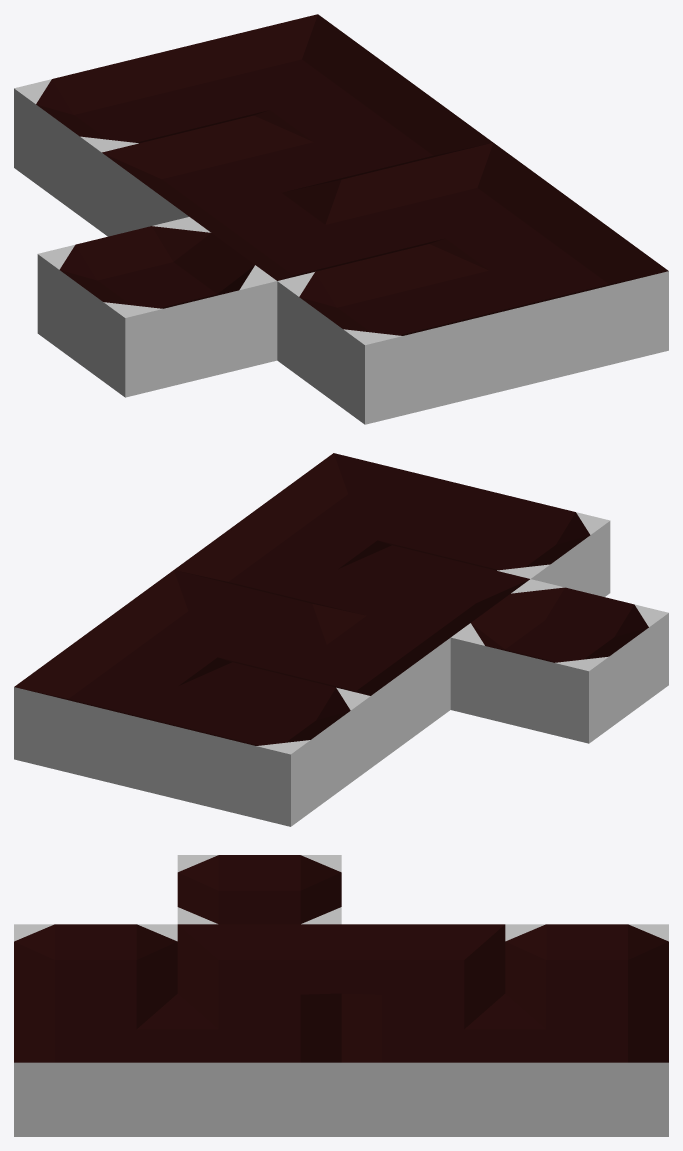
File: 61s_path.obj
3 views of the same model, one above another, from view 1: azimuth 30°, elevation 25°; view 2: azimuth 150°, elevation 25°; view 3: azimuth 270°, elevation 25° (orthographic). The views are drawn at different scales.
Visible parts, largest first — view 1: hole.1.1_Cube.272, ending.2.0_ending.541, corner.3.0_corner.1340, ending.2.3_ending.542, corner.2.2_corner.1339, corner.3.1_corner.1341, corner.3.3_corner.1343, corner.3.2_corner.1342, corner.2.1_corner.1338; view 2: hole.1.1_Cube.272, ending.2.3_ending.542, corner.3.3_corner.1343, corner.3.2_corner.1342, corner.3.0_corner.1340, corner.2.2_corner.1339, ending.2.0_ending.541, corner.2.1_corner.1338, corner.3.1_corner.1341; view 3: corner.3.1_corner.1341, corner.3.2_corner.1342, corner.3.0_corner.1340, corner.3.3_corner.1343, corner.2.1_corner.1338, corner.2.2_corner.1339, ending.2.0_ending.541, ending.2.3_ending.542, hole.1.1_Cube.272.
Boxes of the visible parts, x1,y1,x2,y2 form: hole.1.1_Cube.272: [37, 217, 277, 397]; ending.2.0_ending.541: [277, 244, 516, 424]; corner.3.0_corner.1340: [429, 207, 668, 387]; ending.2.3_ending.542: [14, 51, 250, 231]; corner.2.2_corner.1339: [101, 115, 340, 236]; corner.3.1_corner.1341: [342, 142, 580, 254]; corner.3.3_corner.1343: [166, 14, 405, 125]; corner.3.2_corner.1342: [254, 78, 492, 183]; corner.2.1_corner.1338: [190, 180, 426, 280]; hole.1.1_Cube.272: [450, 579, 668, 743]; ending.2.3_ending.542: [152, 662, 370, 826]; corner.3.3_corner.1343: [14, 628, 231, 792]; corner.3.2_corner.1342: [94, 570, 311, 671]; corner.3.0_corner.1340: [254, 453, 471, 554]; corner.2.2_corner.1339: [236, 604, 450, 767]; ending.2.0_ending.541: [394, 487, 610, 596]; corner.2.1_corner.1338: [313, 545, 529, 646]; corner.3.1_corner.1341: [174, 511, 391, 606]; corner.3.1_corner.1341: [177, 993, 341, 1136]; corner.3.2_corner.1342: [341, 994, 505, 1136]; corner.3.0_corner.1340: [14, 993, 177, 1136]; corner.3.3_corner.1343: [505, 993, 668, 1136]; corner.2.1_corner.1338: [177, 924, 341, 1011]; corner.2.2_corner.1339: [341, 924, 505, 1011]; ending.2.0_ending.541: [14, 924, 177, 1011]; ending.2.3_ending.542: [505, 924, 668, 1011]; hole.1.1_Cube.272: [177, 855, 341, 924].
Bounding box in the file's own units: 6 × 1 × 8.
